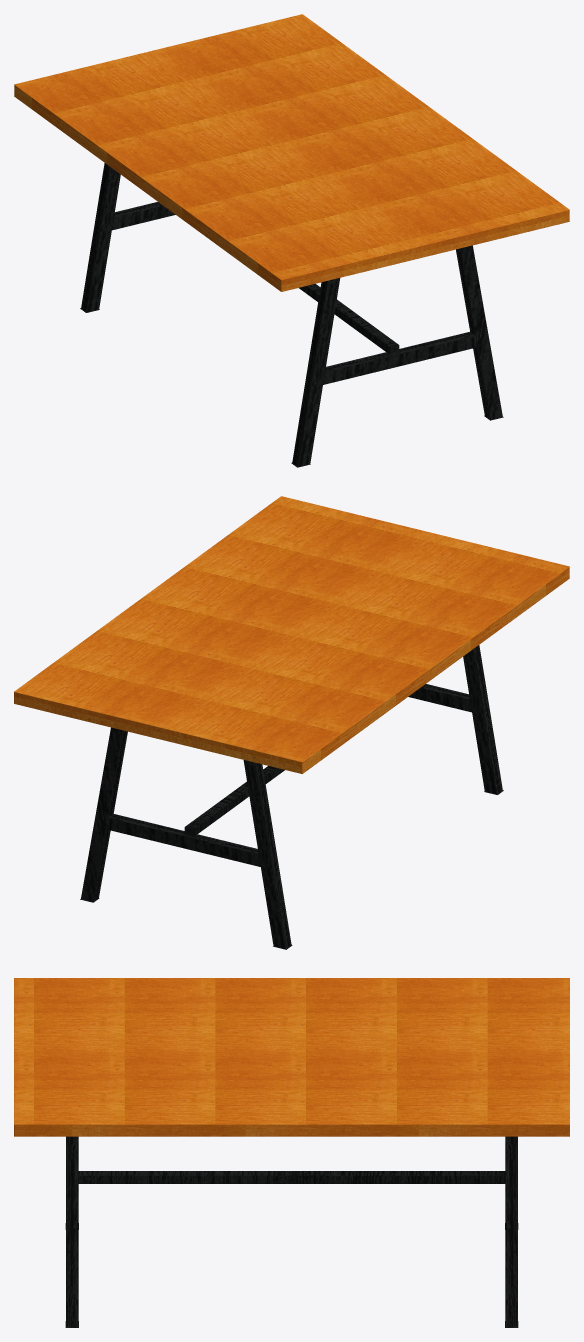
File: Table.dae
The picture shows the model from 3 angles, top to bottom: view 1: azimuth 30°, elevation 25°; view 2: azimuth 150°, elevation 25°; view 3: azimuth 270°, elevation 25°; orthographic projection. The views are drawn at different scales.
Parts seen in each view (by area): view 1: Plane.000, Plane.001, Plane.006; view 2: Plane.000, Plane.001, Plane.006; view 3: Plane.000, Plane.006, Plane.001.
Boxes of the visible parts, x1,y1,x2,y2 form: Plane.000: (14, 14, 569, 291); Plane.001: (80, 163, 503, 467); Plane.006: (299, 284, 399, 354); Plane.000: (14, 496, 569, 773); Plane.001: (80, 645, 503, 949); Plane.006: (184, 766, 284, 836); Plane.000: (14, 978, 569, 1136); Plane.006: (78, 1171, 505, 1183); Plane.001: (65, 1136, 518, 1327).
Size of the model in its own units: 1 by 1.6 by 0.7144.
